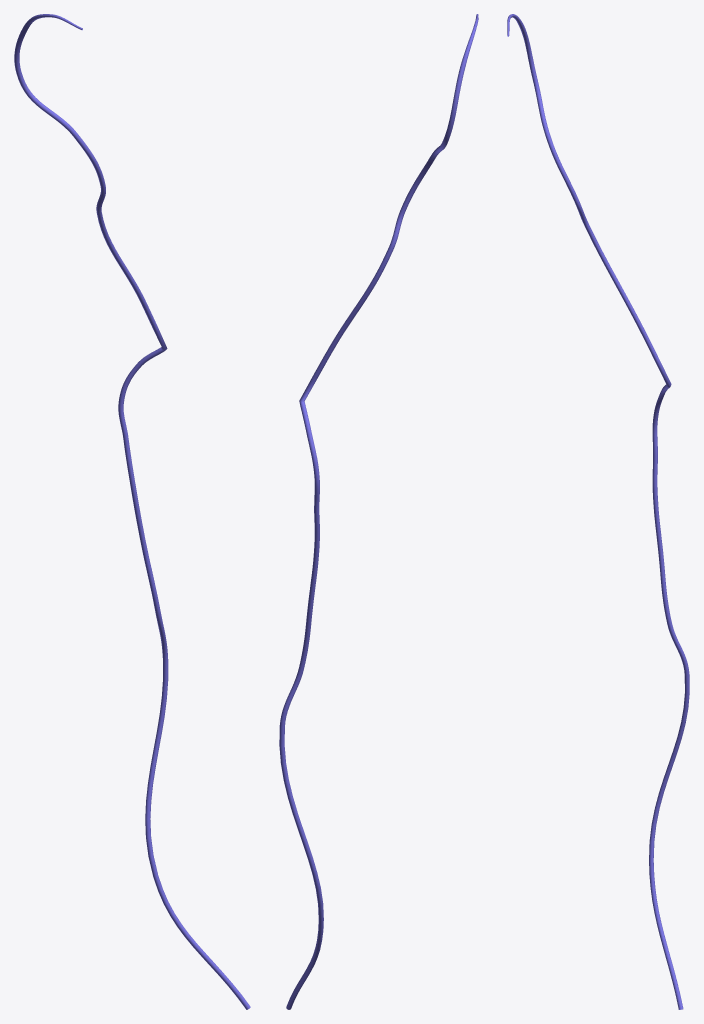
File: External_jugular_vein.r_BezierCurve.431.glb
3 renders of one model, left to right at view 1: azimuth 30°, elevation 25°; view 2: azimuth 150°, elevation 25°; view 3: azimuth 330°, elevation 25°, orthographic. The views are drawn at different scales.
Parts seen in each view (by area): view 1: External_jugular_vein.r_BezierCurve.431; view 2: External_jugular_vein.r_BezierCurve.431; view 3: External_jugular_vein.r_BezierCurve.431.
Boxes of the visible parts, x1,y1,x2,y2 form: External_jugular_vein.r_BezierCurve.431: [14, 14, 250, 1009]; External_jugular_vein.r_BezierCurve.431: [279, 14, 478, 1009]; External_jugular_vein.r_BezierCurve.431: [507, 14, 689, 1009].
Size of the model in its own units: 0.0445 by 0.2168 by 0.0237.
